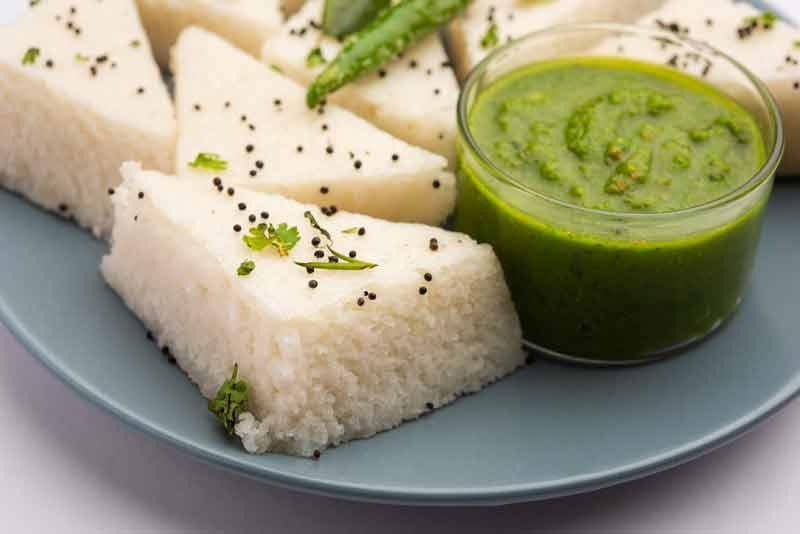dhokla: (0, 0, 496, 446), (680, 0, 800, 160)
